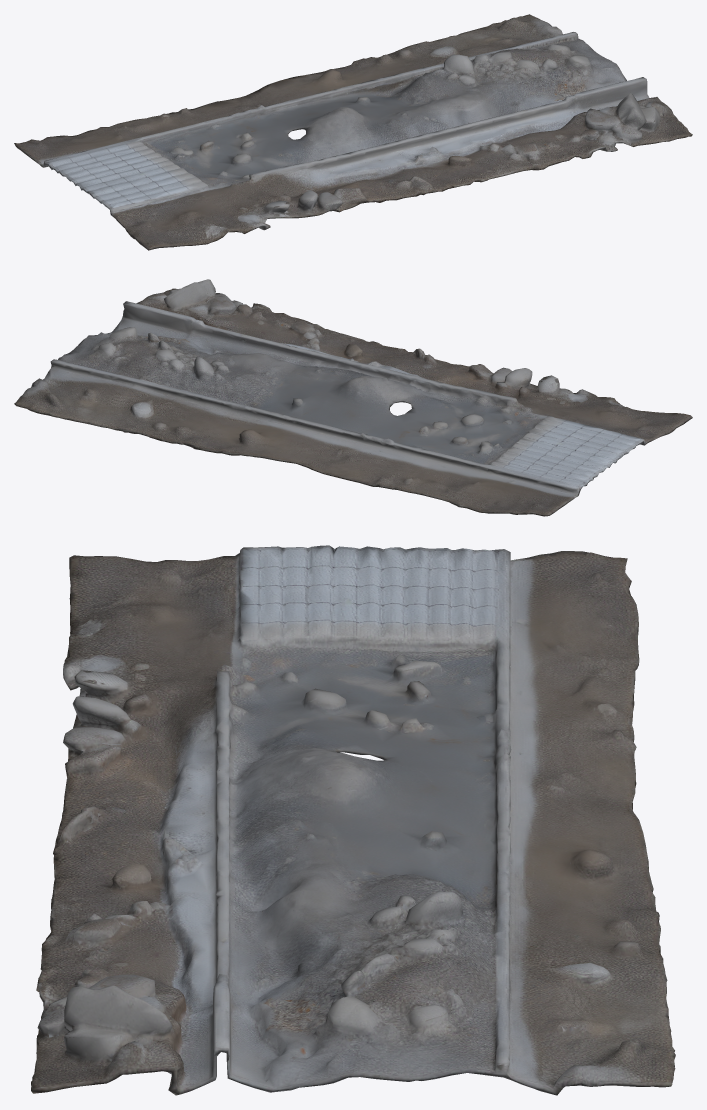
File: collapsed_1.glb
3 views of the same model, one above another, from view 1: azimuth 30°, elevation 25°; view 2: azimuth 150°, elevation 25°; view 3: azimuth 270°, elevation 25° (orthographic). The views are drawn at different scales.
Visible parts, largest first — view 1: Mesh1.0; view 2: Mesh1.0; view 3: Mesh1.0.
Boxes of the visible parts, x1,y1,x2,y2 form: Mesh1.0: (14, 14, 692, 250); Mesh1.0: (14, 279, 692, 516); Mesh1.0: (31, 545, 675, 1095).
Bounding box in the file's own units: 1.91 × 0.1328 × 0.9966.
Materials: 1 (1 with a texture image).
